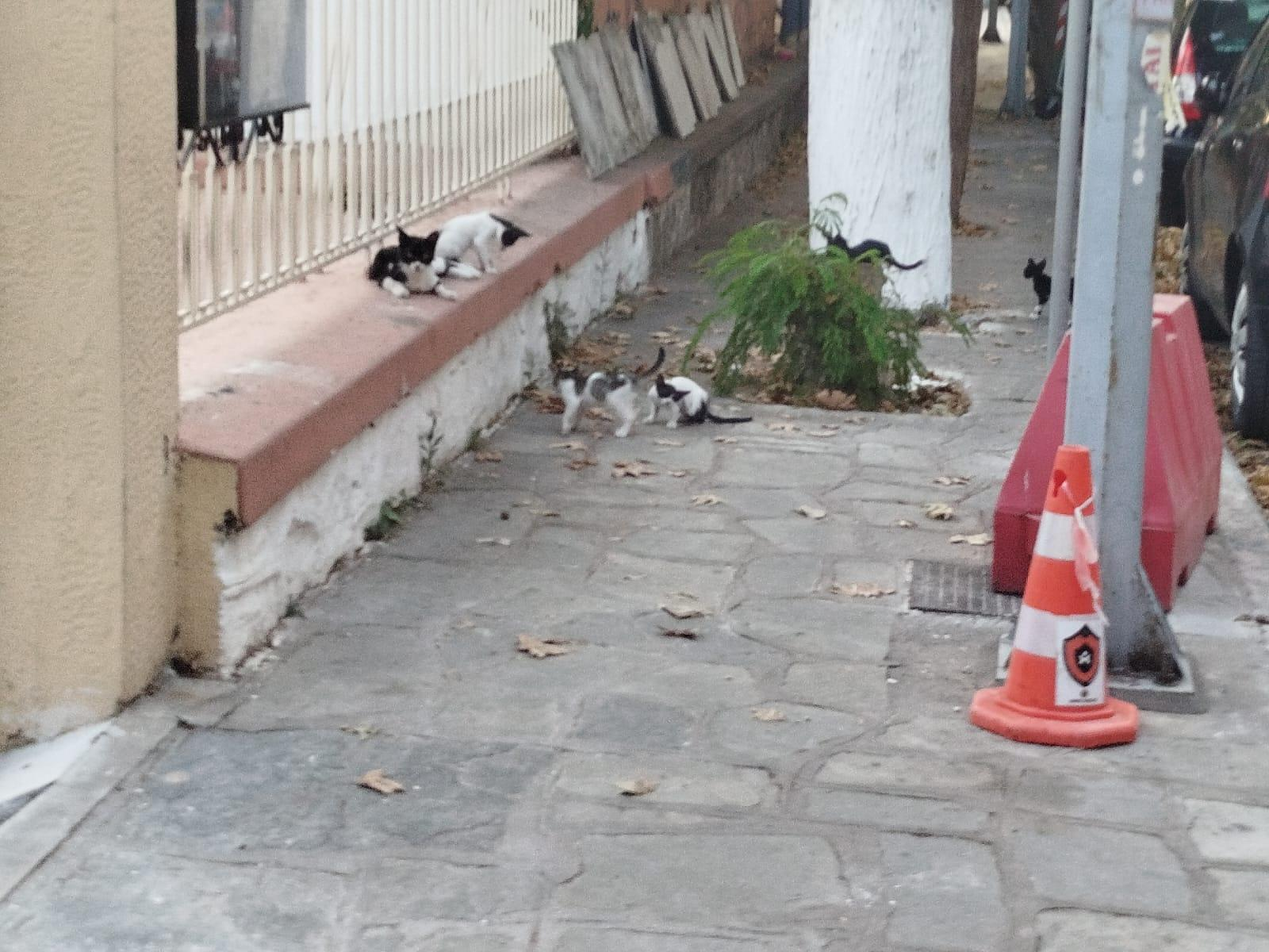macka: (554, 347, 667, 439), (366, 224, 485, 300), (435, 213, 532, 275), (645, 375, 754, 429), (825, 233, 925, 270), (1022, 257, 1051, 317)
